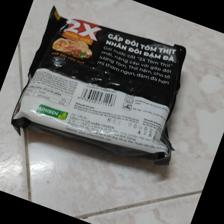3mien: (10, 6, 186, 166)
